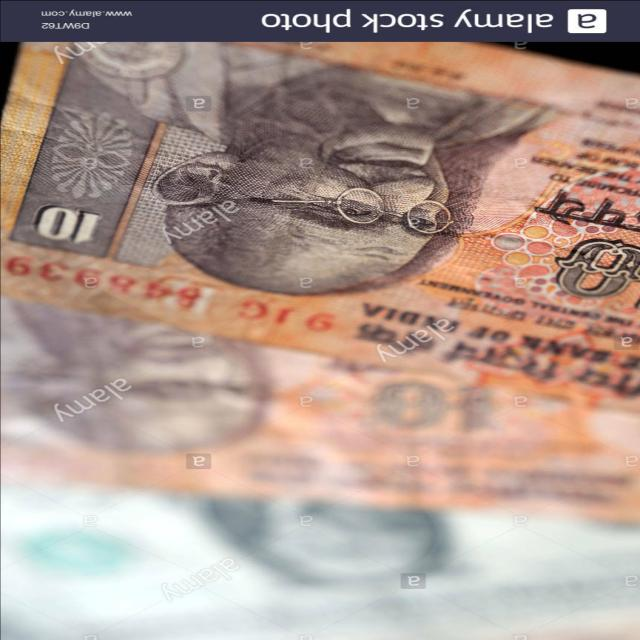10IndianRupees: (3, 44, 640, 416)
